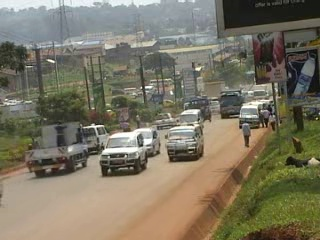Car: (97, 129, 149, 179), (129, 124, 161, 160), (154, 110, 175, 129)
Motorcycle: (120, 116, 132, 134)
